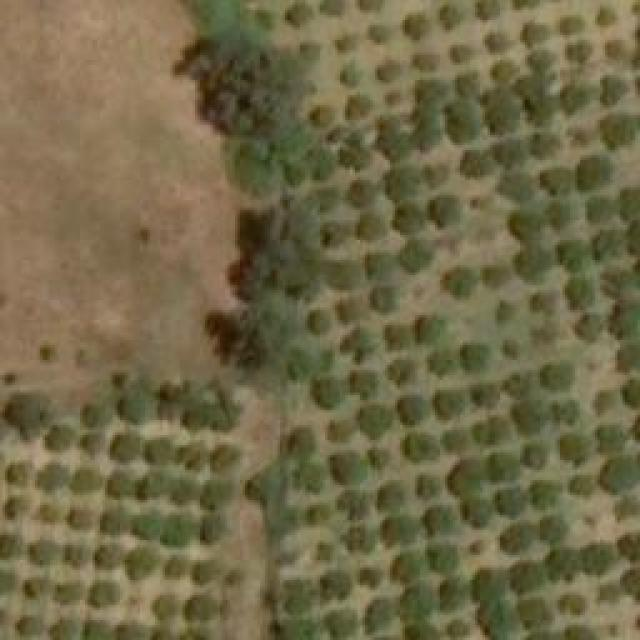Tree: (192, 35, 306, 128), (228, 205, 319, 295), (228, 120, 321, 192), (205, 305, 293, 361), (162, 378, 242, 432), (8, 390, 48, 438), (483, 83, 518, 133), (445, 95, 480, 143), (248, 470, 288, 508), (373, 118, 408, 161), (507, 248, 545, 283), (597, 113, 635, 148), (578, 158, 618, 191), (123, 385, 156, 423), (335, 132, 368, 170), (310, 370, 343, 408), (600, 460, 635, 495), (522, 80, 550, 123), (595, 268, 630, 301), (450, 460, 483, 495), (278, 583, 313, 616), (395, 585, 428, 620), (480, 603, 513, 638), (508, 563, 543, 596), (295, 340, 327, 376), (400, 235, 430, 273), (330, 450, 368, 480), (610, 300, 640, 338), (143, 435, 176, 468), (185, 593, 218, 626), (558, 80, 591, 113), (560, 433, 593, 466), (110, 430, 140, 465), (355, 405, 390, 435), (395, 393, 430, 423), (390, 555, 425, 585), (498, 523, 533, 553), (580, 543, 615, 573), (510, 403, 545, 433), (413, 110, 438, 150), (88, 580, 121, 610), (98, 503, 128, 536), (133, 510, 163, 543), (395, 205, 428, 235), (513, 210, 546, 240), (555, 240, 588, 270), (343, 330, 373, 363), (348, 370, 381, 400), (373, 480, 403, 513), (548, 550, 581, 580), (323, 262, 358, 290), (597, 73, 625, 106), (353, 215, 386, 243), (380, 322, 413, 350), (297, 460, 325, 493), (343, 527, 376, 555), (590, 422, 623, 450), (210, 443, 240, 473), (430, 198, 460, 228), (285, 425, 315, 455), (408, 433, 438, 463), (338, 490, 368, 520), (105, 465, 130, 500), (438, 580, 463, 615), (470, 420, 505, 445), (35, 462, 65, 490), (73, 467, 103, 495), (127, 548, 155, 578), (200, 515, 228, 545), (400, 12, 430, 40), (595, 230, 623, 260), (387, 355, 415, 385), (385, 518, 413, 548), (457, 495, 485, 525), (470, 570, 500, 598), (358, 602, 388, 630), (327, 608, 355, 638), (612, 340, 640, 370), (445, 270, 478, 295), (617, 565, 640, 600), (60, 540, 88, 568), (200, 480, 228, 508), (460, 152, 488, 180), (540, 167, 568, 195), (490, 452, 518, 480), (528, 133, 561, 156), (528, 325, 561, 348), (0, 493, 25, 523), (98, 543, 128, 568), (135, 475, 165, 500), (165, 515, 190, 545), (343, 95, 373, 120), (520, 20, 550, 45), (413, 80, 443, 105), (498, 175, 528, 200), (460, 343, 490, 368), (28, 537, 53, 565), (68, 500, 93, 528), (150, 592, 175, 620), (45, 425, 73, 450), (387, 170, 415, 195), (495, 140, 520, 168), (585, 198, 613, 223), (562, 280, 590, 305), (370, 288, 398, 313), (437, 388, 465, 413), (427, 350, 455, 375), (430, 545, 455, 573), (532, 483, 560, 508), (537, 515, 565, 540), (520, 597, 545, 625), (615, 532, 640, 560), (83, 400, 106, 430), (558, 593, 588, 616), (575, 315, 605, 338), (607, 500, 640, 520), (180, 442, 203, 470), (412, 50, 440, 73), (347, 183, 375, 206), (305, 152, 328, 180), (325, 418, 353, 441), (415, 472, 438, 500), (470, 385, 498, 408), (170, 478, 195, 503), (368, 25, 393, 50), (438, 5, 463, 30), (548, 205, 573, 230), (415, 315, 440, 340), (500, 485, 525, 510), (543, 365, 568, 390), (620, 188, 640, 218), (503, 375, 533, 395), (0, 530, 22, 557), (33, 500, 58, 523), (15, 613, 40, 636), (283, 3, 308, 26), (375, 60, 400, 83), (423, 165, 448, 188), (568, 123, 593, 146), (320, 223, 343, 248), (365, 255, 390, 278), (320, 570, 343, 595), (47, 620, 75, 640), (80, 620, 108, 640), (190, 563, 218, 583), (447, 45, 475, 65), (482, 33, 510, 53), (567, 475, 595, 495), (163, 553, 186, 576), (80, 433, 103, 456), (338, 65, 361, 88), (455, 73, 478, 96), (310, 190, 333, 213), (483, 265, 506, 288), (358, 568, 381, 591), (520, 443, 543, 466), (553, 400, 576, 423), (38, 342, 61, 364), (522, 52, 550, 70), (622, 377, 640, 405), (320, 0, 345, 20), (305, 310, 325, 335), (560, 625, 593, 640), (5, 463, 28, 483), (475, 0, 498, 20), (493, 63, 516, 83), (595, 5, 618, 25), (310, 108, 333, 128), (340, 300, 360, 323), (443, 428, 466, 448), (308, 505, 331, 525), (428, 510, 448, 533), (590, 393, 610, 416), (493, 300, 513, 323), (533, 293, 556, 313), (113, 622, 138, 640), (175, 625, 205, 640), (330, 35, 355, 53), (288, 285, 313, 303), (53, 585, 76, 603), (298, 42, 321, 60), (560, 15, 583, 33), (568, 42, 591, 60), (372, 445, 390, 468), (255, 10, 275, 30), (313, 543, 333, 563), (0, 570, 15, 595), (23, 577, 43, 595), (605, 40, 625, 58), (595, 585, 615, 603), (445, 623, 468, 638), (0, 370, 20, 385), (382, 90, 400, 105), (467, 540, 485, 555), (503, 340, 518, 358)
